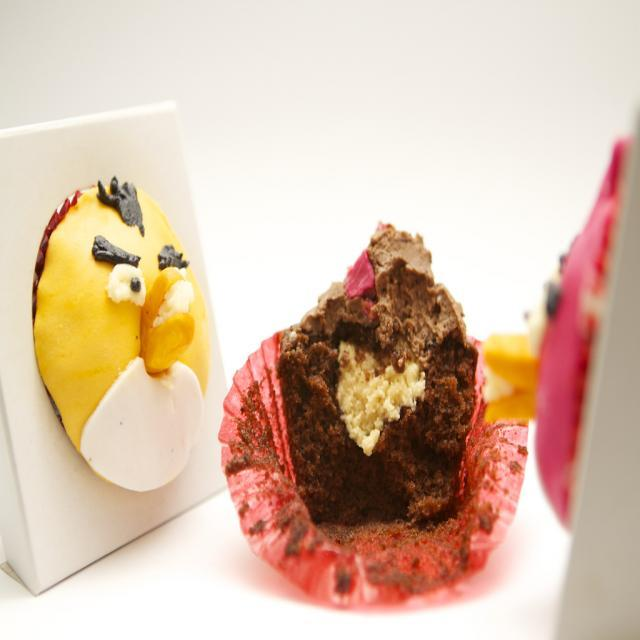Muffin: (218, 220, 534, 609), (475, 135, 635, 531), (24, 175, 214, 495)
